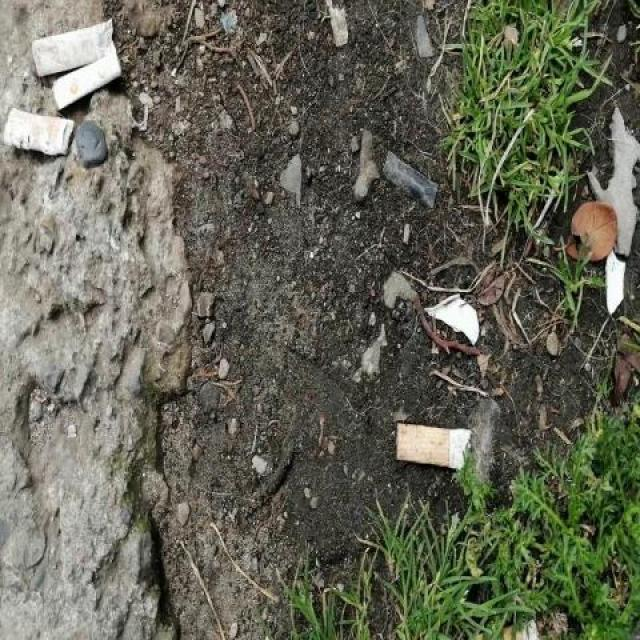non-organic waste: (29, 18, 119, 82), (51, 51, 128, 112), (392, 419, 477, 472), (1, 103, 76, 161)
